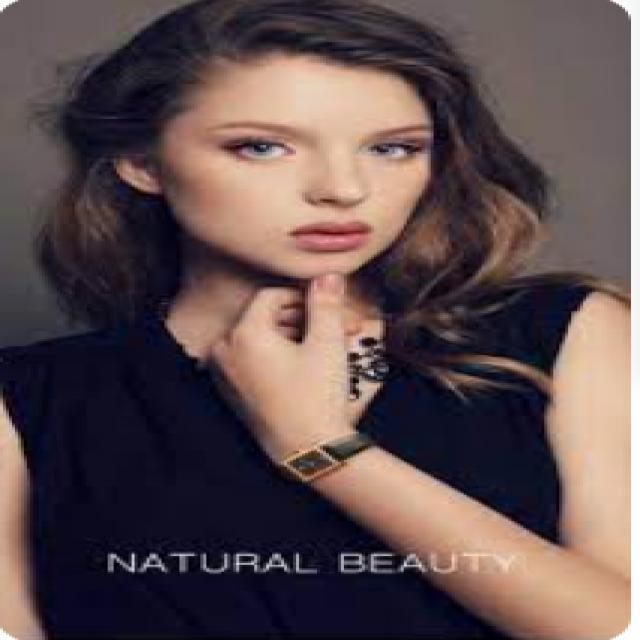Watch: (259, 418, 382, 484)
